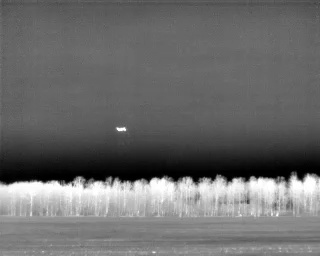DRONE: (111, 121, 131, 137)
